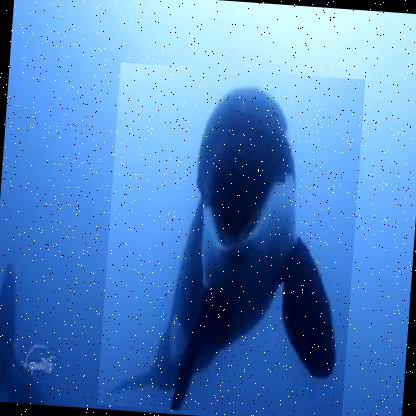killer_whale: (96, 63, 366, 415)
